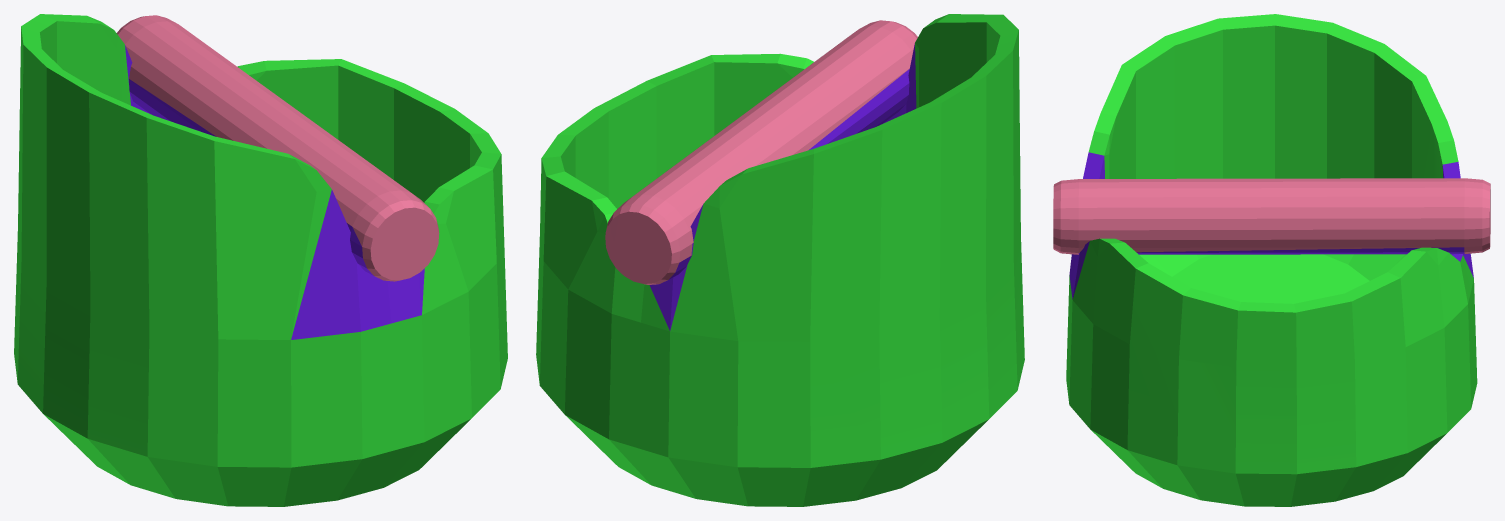
File: KnockBoxNew.fbx
The picture shows the model from 3 angles, left to right: view 1: azimuth 30°, elevation 25°; view 2: azimuth 150°, elevation 25°; view 3: azimuth 270°, elevation 25°; orthographic projection. The views are drawn at different scales.
Visible parts, largest first — view 1: KnockBox_Model; view 2: KnockBox_Model; view 3: KnockBox_Model.
Boxes of the visible parts, box(x1,y1,x2,y2) form: KnockBox_Model: box(14, 14, 507, 506); KnockBox_Model: box(536, 14, 1024, 506); KnockBox_Model: box(1053, 14, 1490, 506).
Size of the model in its own units: 18.6 by 17.1 by 19.81.
